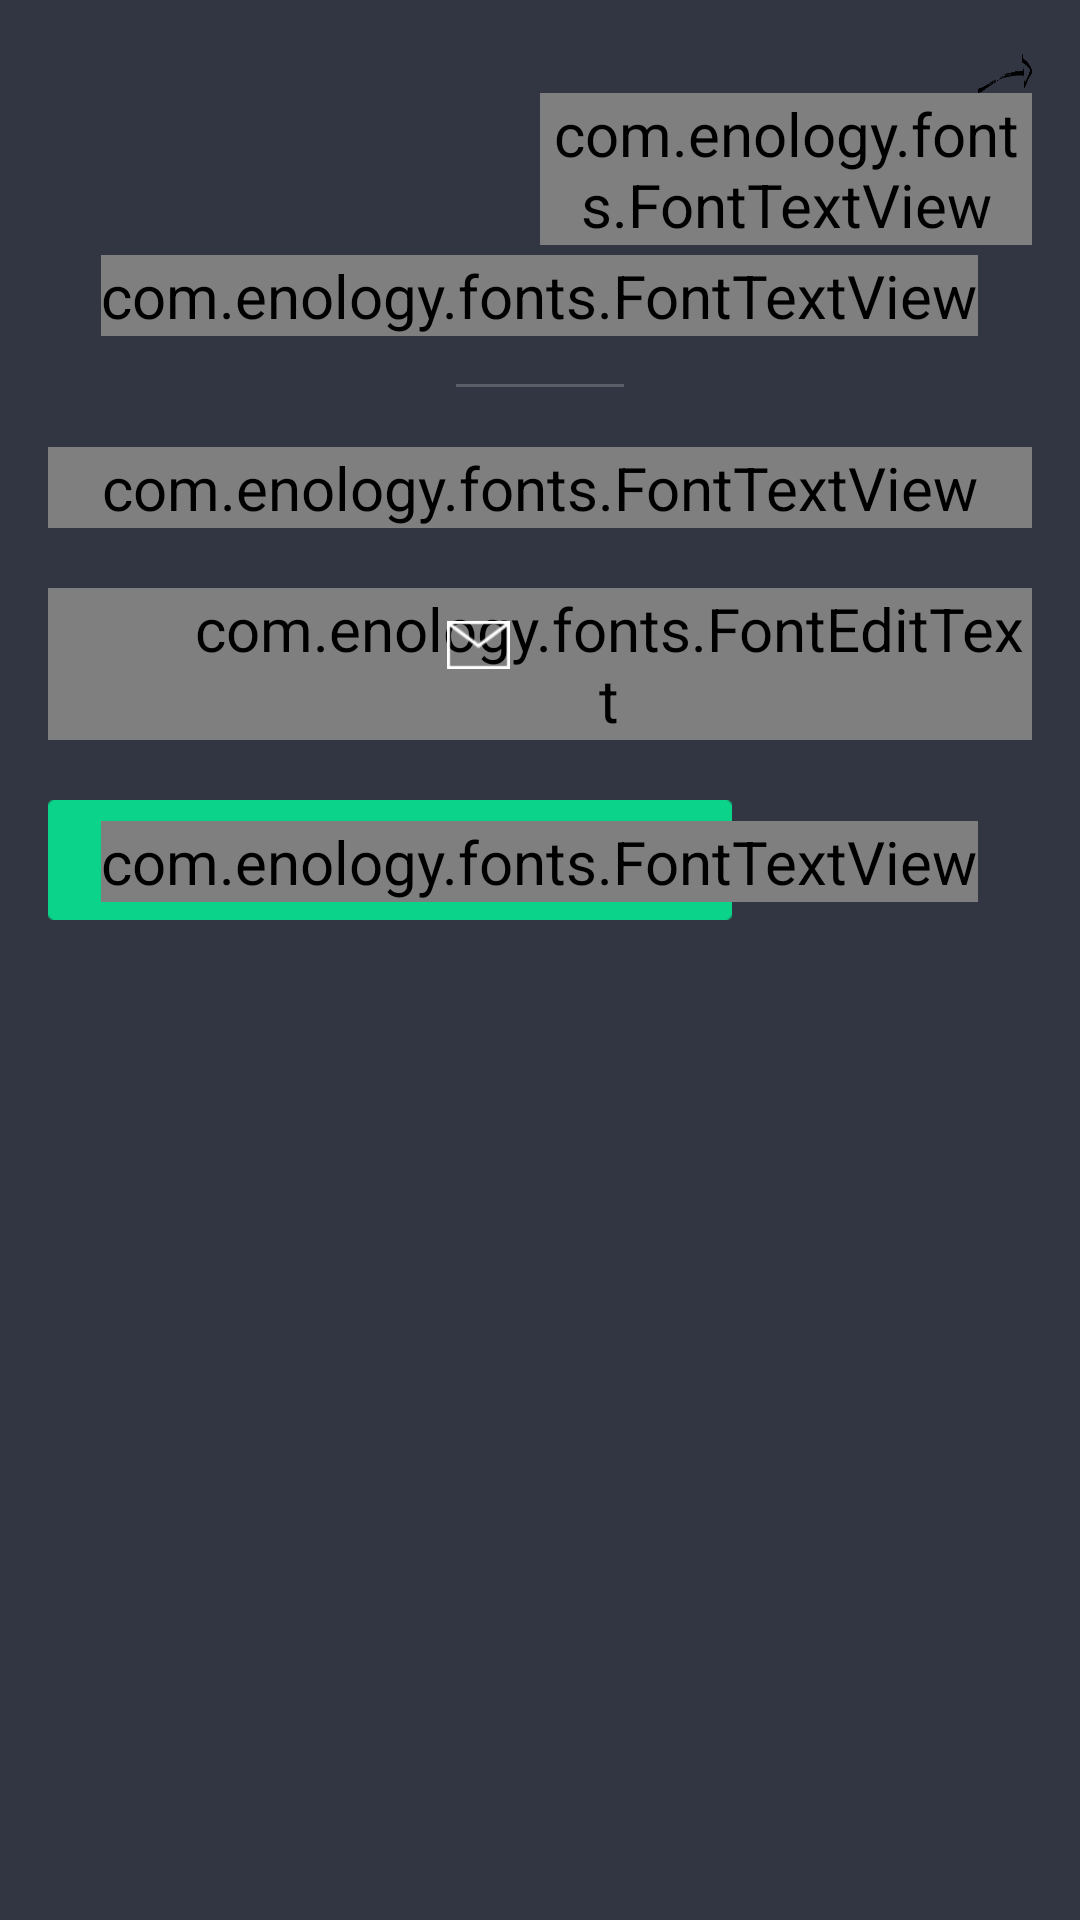

Icons on this 1080x1920 Android screen, each with its box as Rect(x1, y1, x2, y2):
login arrow right: Rect(997, 54, 1032, 88)
